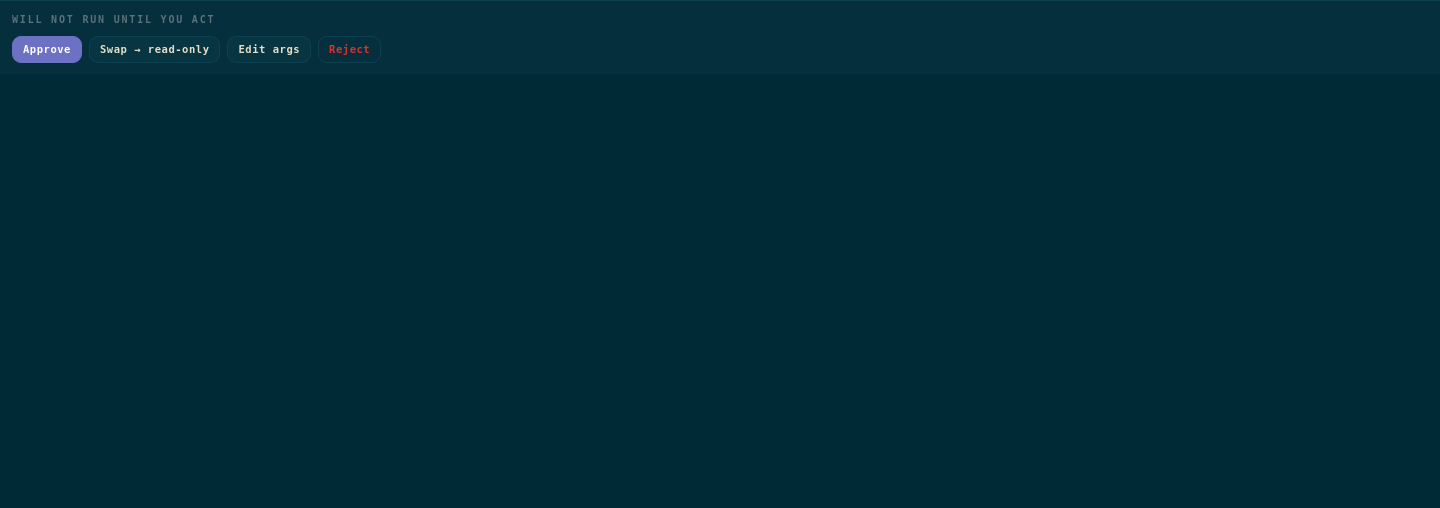
Test: InterceptControls › opens the swap picker on a pending tool
This screenshot has width=1440, height=508.
Click the button "Swap → read-only". click: click(155, 49)
box: [89,36,220,62]
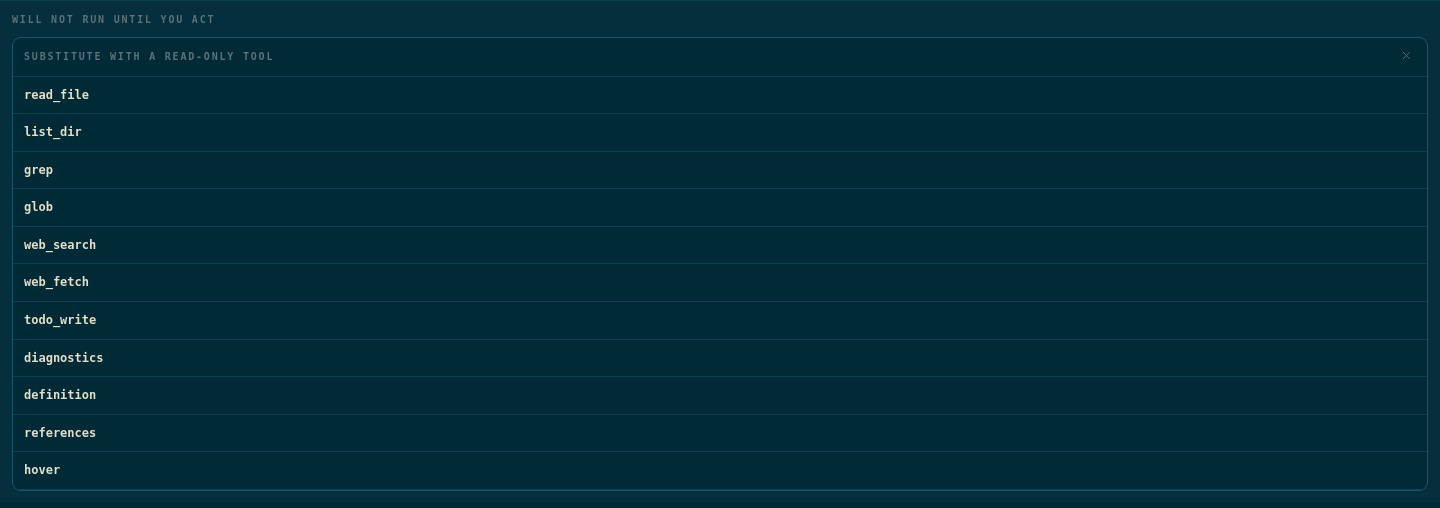
Now the text "read_file" is shown, box [24,86,89,104]
